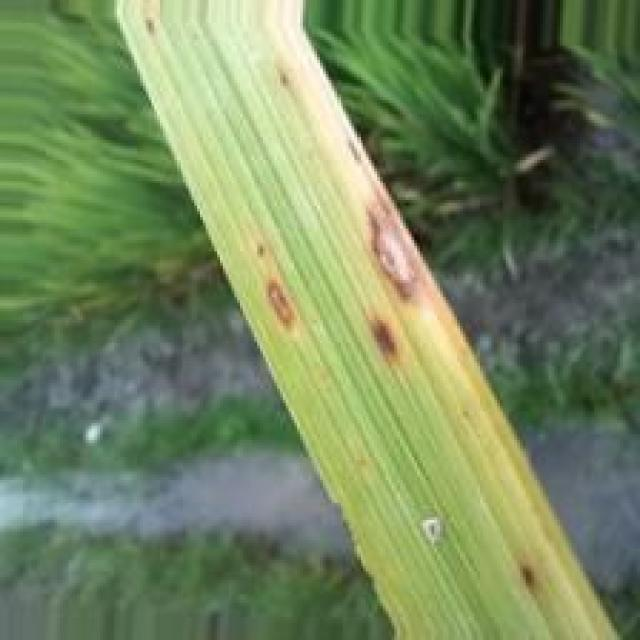Leaf_Blast: (277, 0, 580, 564), (246, 219, 300, 332)
